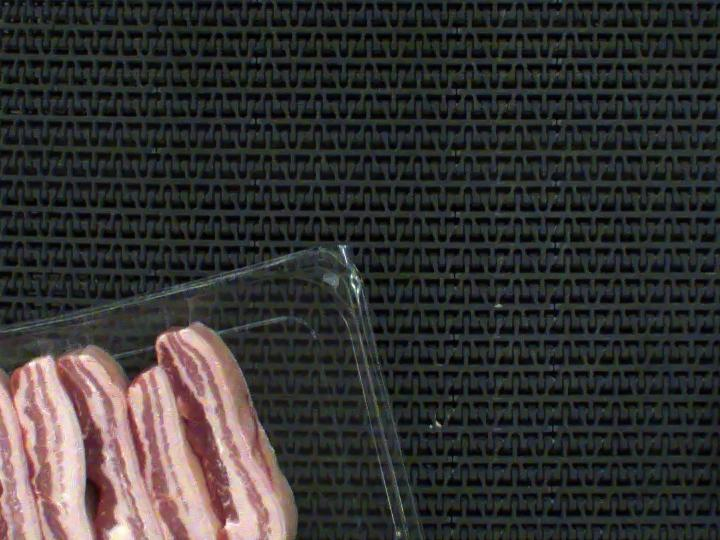packaging-error: (0, 320, 248, 392)
